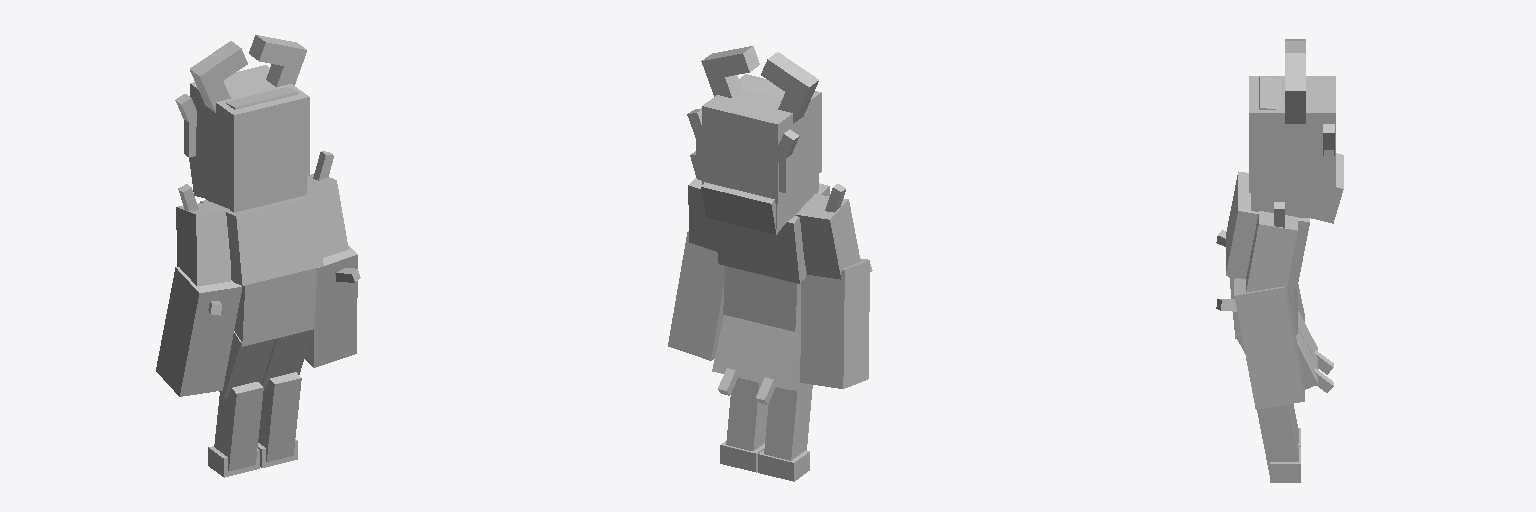
Rendered from belph.obj.
3 views of the same model, side by side, from view 1: azimuth 30°, elevation 25°; view 2: azimuth 150°, elevation 25°; view 3: azimuth 270°, elevation 25° (orthographic).
Visible parts, largest first — view 1: cube; view 2: cube; view 3: cube.
Boxes of the visible parts, x1,y1,x2,y2 form: cube: [156, 35, 360, 477]; cube: [668, 46, 872, 481]; cube: [1216, 39, 1343, 482].
Bounding box in the file's own units: 1.23 × 2.77 × 0.7643.